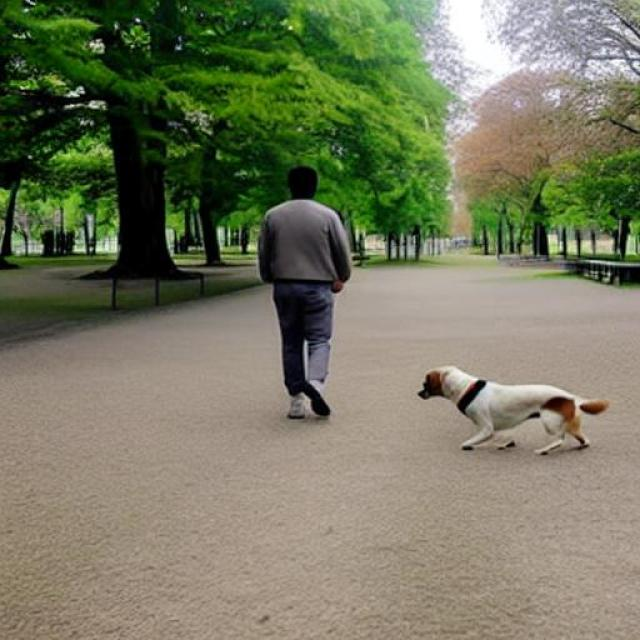Unleashed_Dog: (277, 282, 611, 456)
